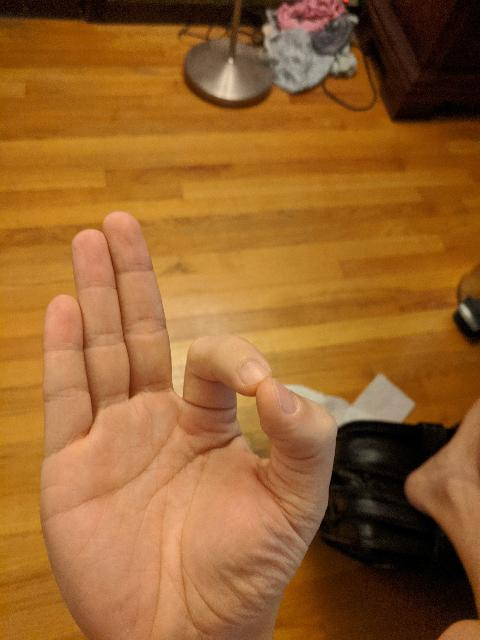F: (34, 206, 342, 640)
